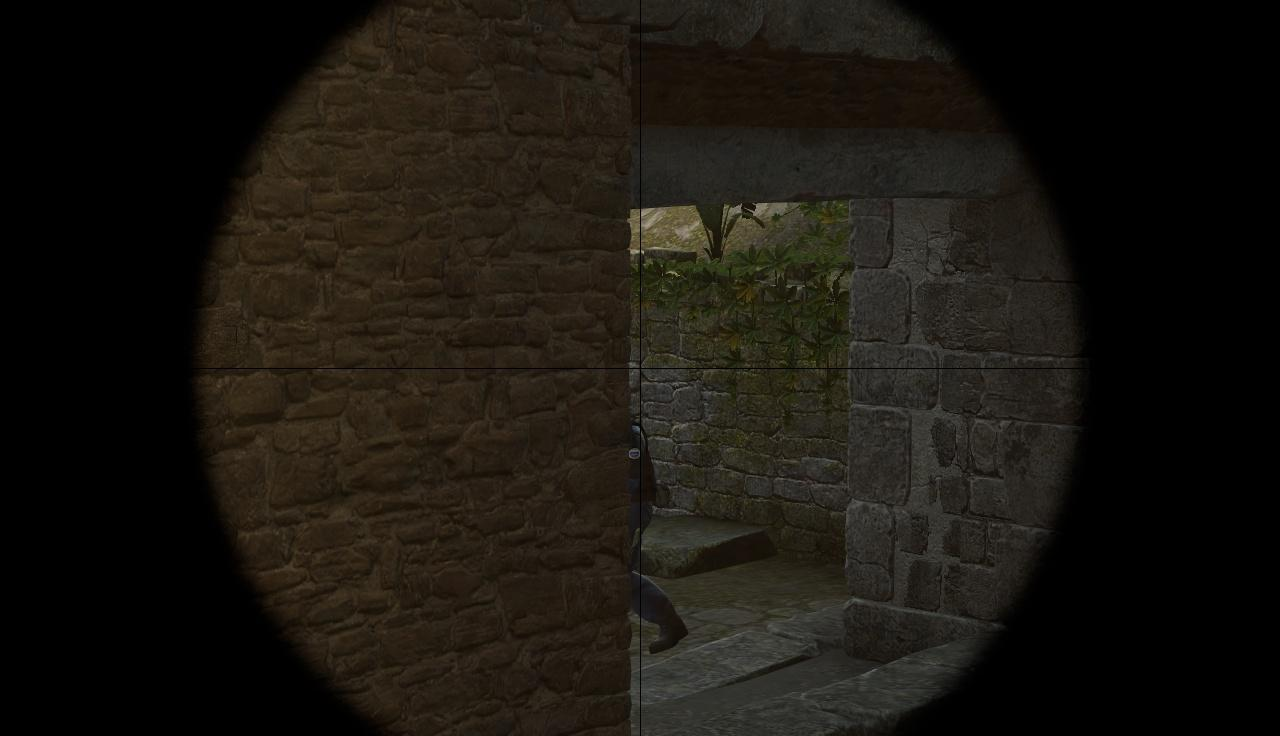ct: (628, 399, 657, 650)
